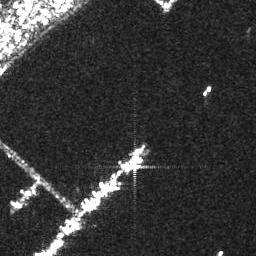ship: (123, 157, 143, 173), (9, 199, 24, 211), (19, 188, 37, 197), (202, 83, 211, 96)
